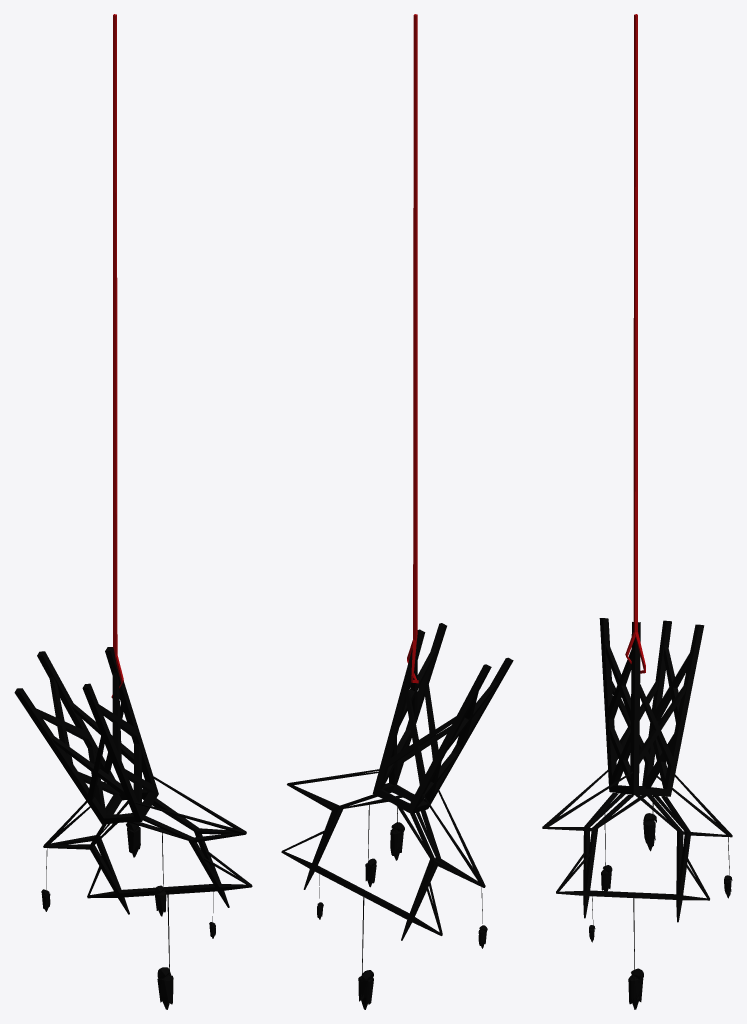
The model's file is powerplantbirds1.glb.
3 renders of one model, left to right at view 1: azimuth 30°, elevation 25°; view 2: azimuth 210°, elevation 25°; view 3: azimuth 270°, elevation 25°, orthographic. The views are drawn at different scales.
Visible parts, largest first — view 1: powerplant.001, string, deadbird.001; view 2: powerplant.001, string, deadbird.001; view 3: powerplant.001, string, deadbird.001.
Boxes of the visible parts, bbox=[...] form: powerplant.001: bbox=[14, 647, 252, 914]; string: bbox=[111, 14, 123, 698]; deadbird.001: bbox=[157, 894, 173, 1009]; powerplant.001: bbox=[281, 623, 513, 940]; string: bbox=[407, 14, 418, 683]; deadbird.001: bbox=[358, 897, 373, 1009]; powerplant.001: bbox=[542, 618, 732, 922]; string: bbox=[625, 14, 645, 673]; deadbird.001: bbox=[628, 898, 643, 1009].
Size of the model in its own units: 14.15 by 75.59 by 13.43.
